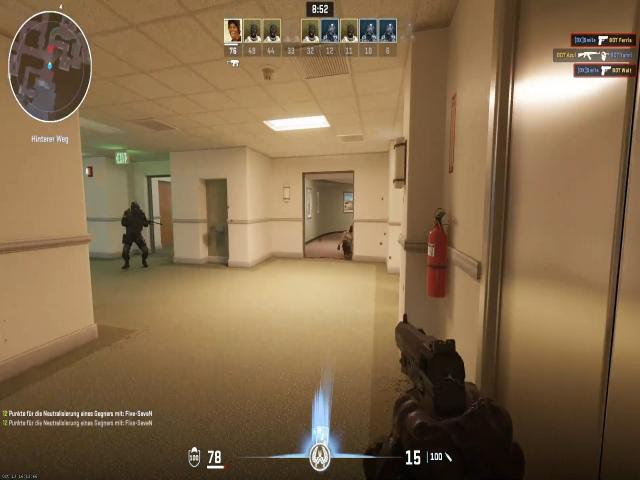CT: (125, 196, 146, 262)
CT-Head: (130, 198, 144, 216)
Dead: (333, 225, 356, 262)
